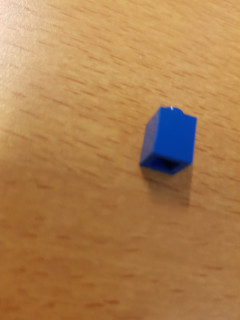1x1 blue: (136, 103, 200, 179)
